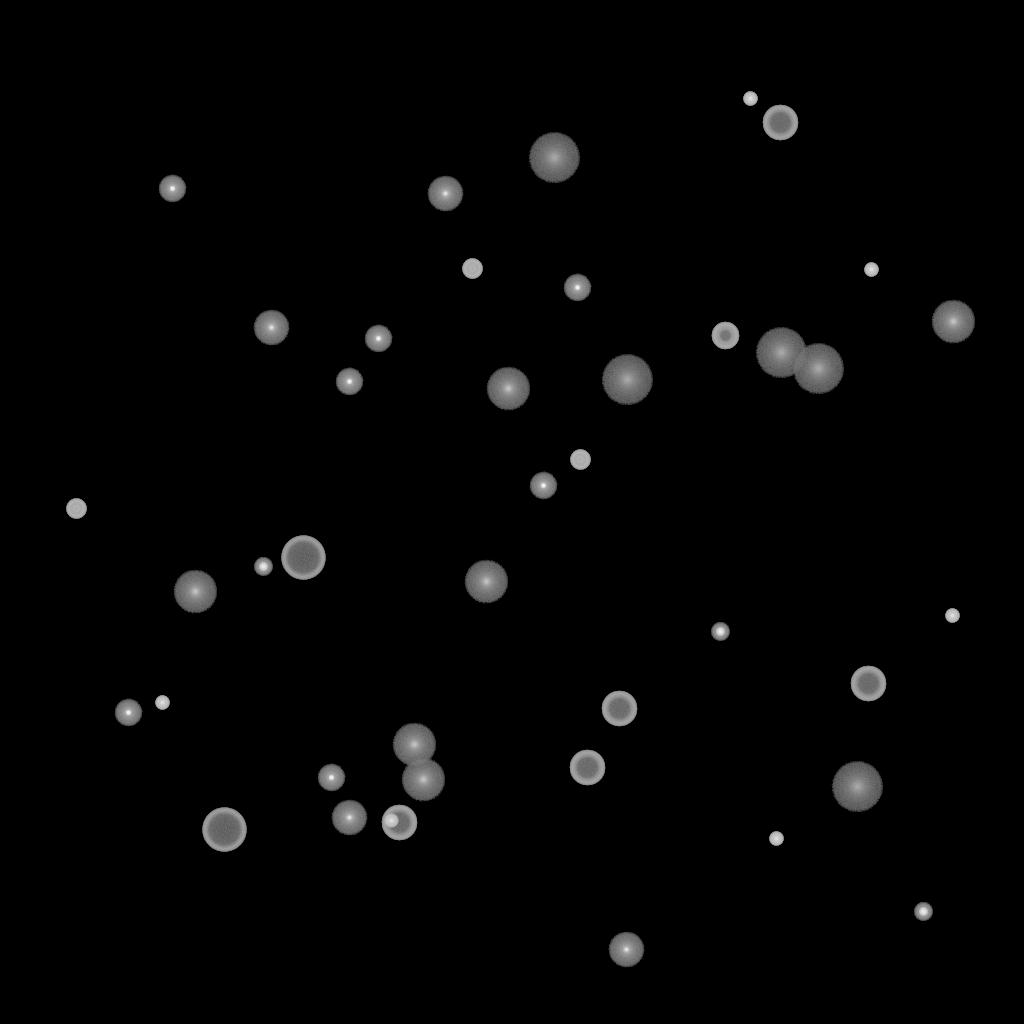depth:-10: (529, 472, 557, 500), (114, 699, 142, 727), (317, 764, 345, 792), (335, 368, 363, 396), (364, 325, 392, 353), (158, 175, 186, 203), (563, 274, 591, 302)
depth:-20: (711, 623, 729, 641), (914, 903, 932, 921), (254, 558, 272, 576)
depth:-30: (743, 92, 757, 106), (945, 609, 959, 623), (155, 696, 169, 710), (769, 832, 783, 846), (864, 263, 878, 277), (384, 814, 398, 828)
depth:-40: (570, 450, 590, 470), (462, 259, 482, 279), (66, 499, 86, 519)
depth:-50: (711, 322, 739, 350)
depth:-60: (381, 805, 417, 841), (762, 105, 798, 141), (850, 666, 886, 702), (569, 750, 605, 786), (601, 691, 637, 727)
depth:-70: (281, 536, 325, 580), (202, 808, 246, 852)
depth:0: (608, 932, 644, 968), (253, 310, 289, 346), (331, 800, 367, 836), (427, 176, 463, 212)
depth:10: (392, 723, 436, 767), (931, 300, 975, 344), (173, 570, 217, 614), (486, 367, 530, 411), (401, 758, 445, 802), (464, 560, 508, 604)
depth:20: (792, 344, 844, 394), (831, 762, 883, 812), (528, 133, 580, 183), (601, 355, 653, 405), (755, 328, 807, 378)
